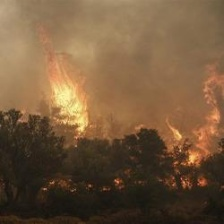fire: (31, 35, 224, 195)
smoke: (86, 4, 213, 116)
